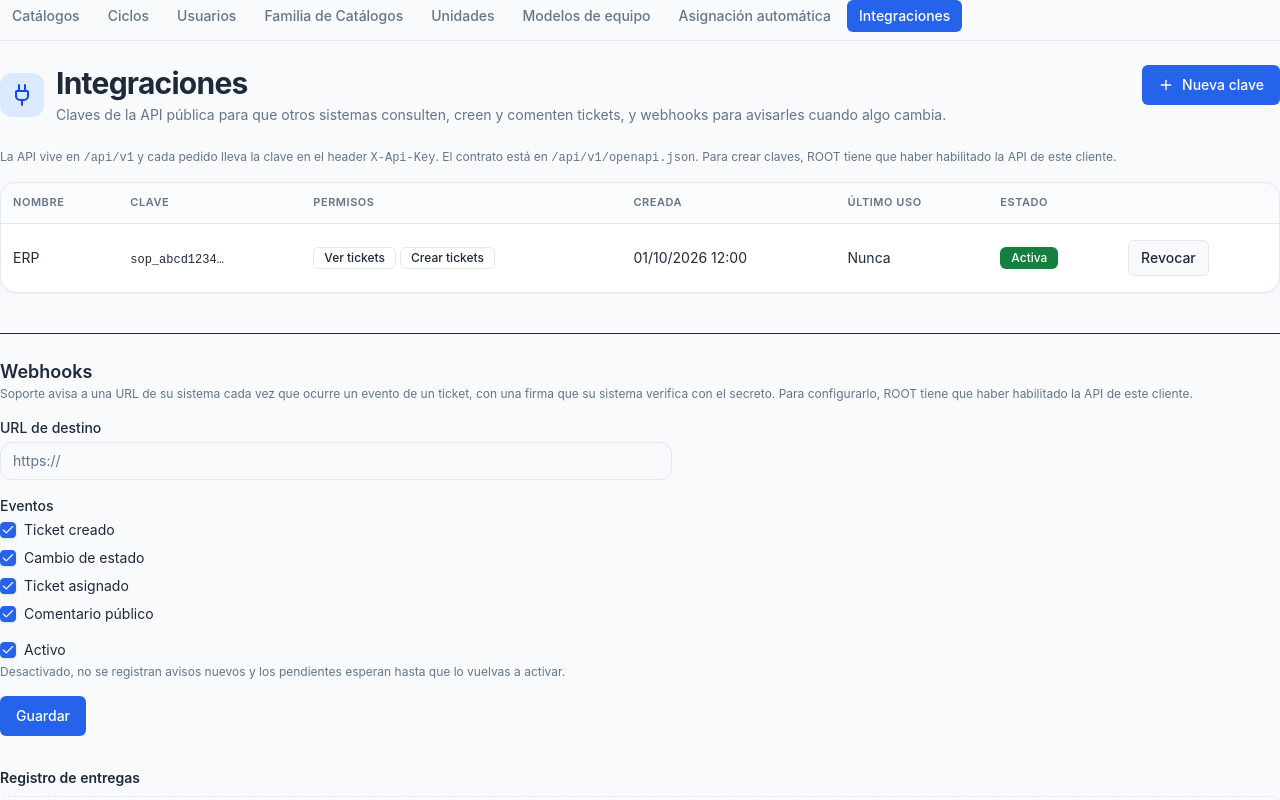
it: IntegracionesAdminView › crear envía nombre y permisos, muestra la clave una vez y la descarta al cerrar
Expected: the text "ERP" is shown, [13,248,39,266]
Click the button "Nueva clave": x=1211, y=85 [1142,65,1279,105]
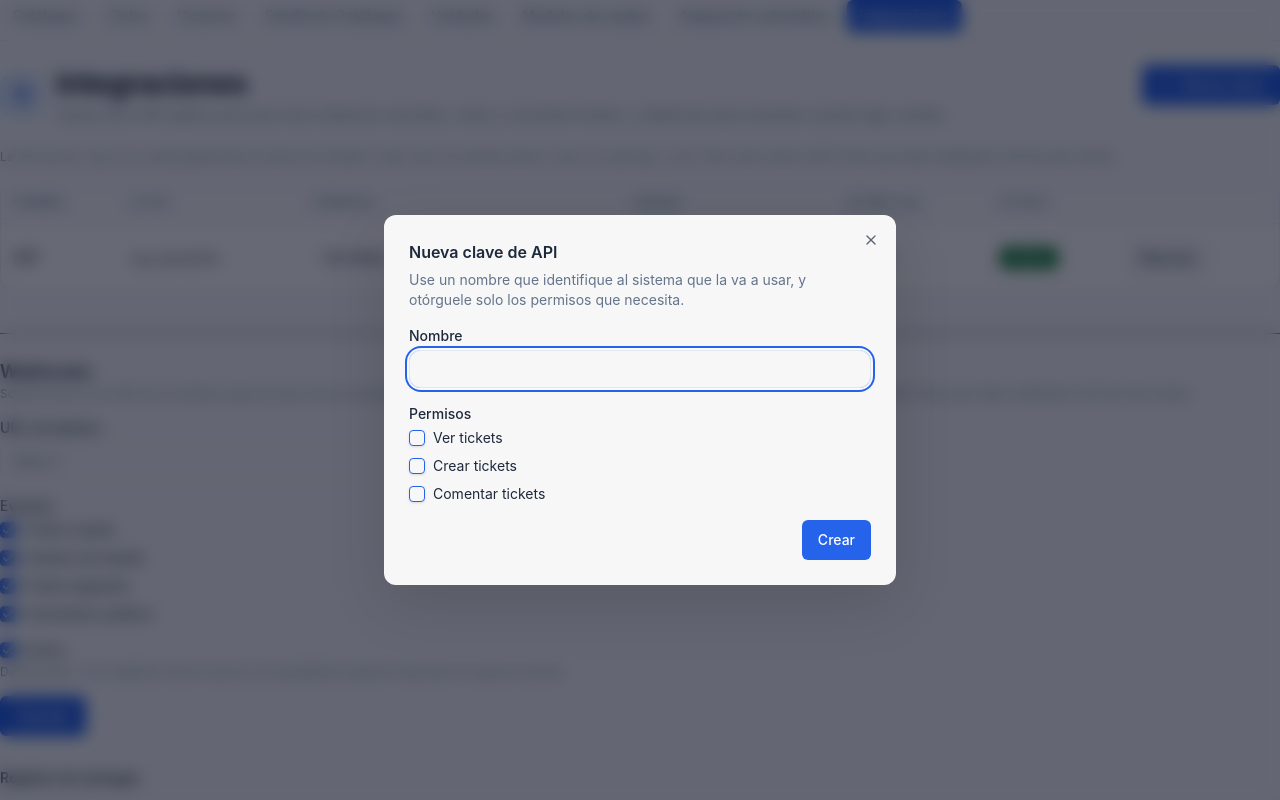
In the field labelled "Nombre": x=640, y=369 [409,350,871,388], type "  Mesa  "
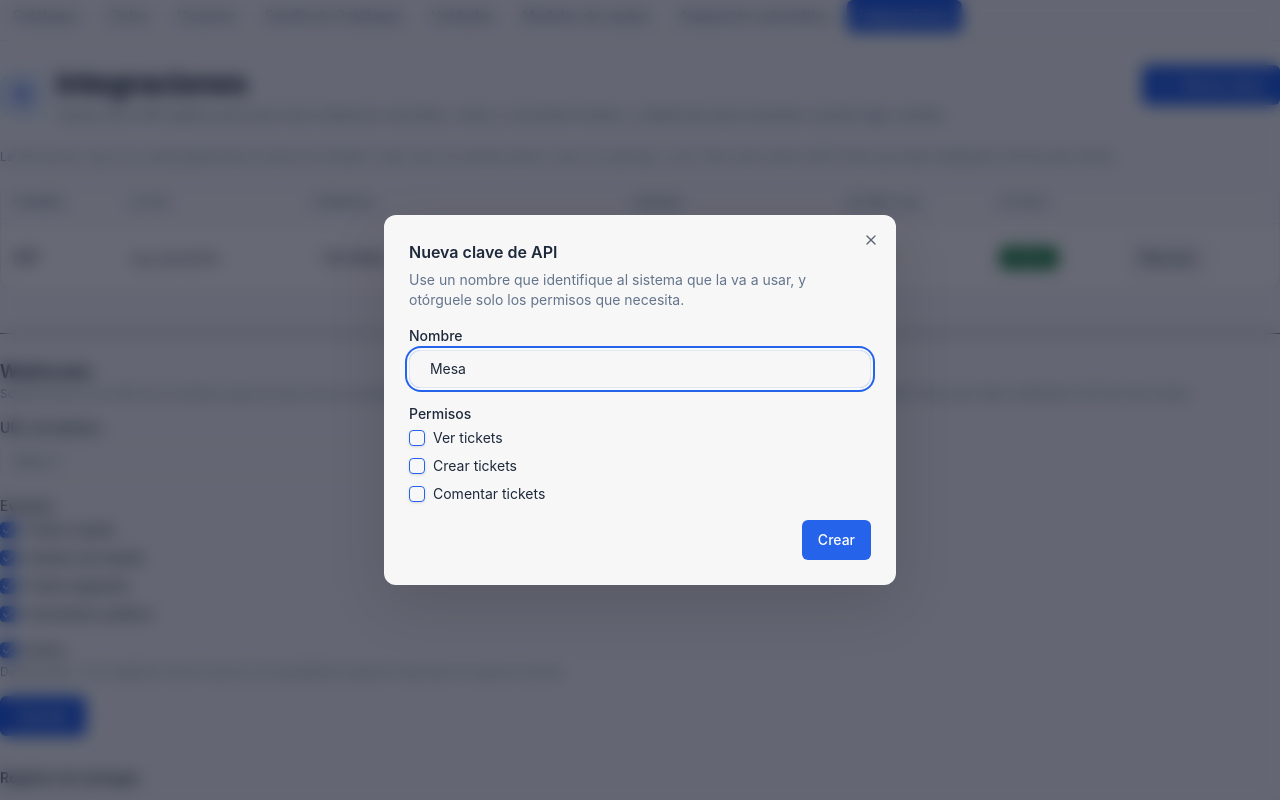
Click the checkbox named "Comentar tickets" next to "Comentar tickets": x=417, y=494 [409,486,425,502]
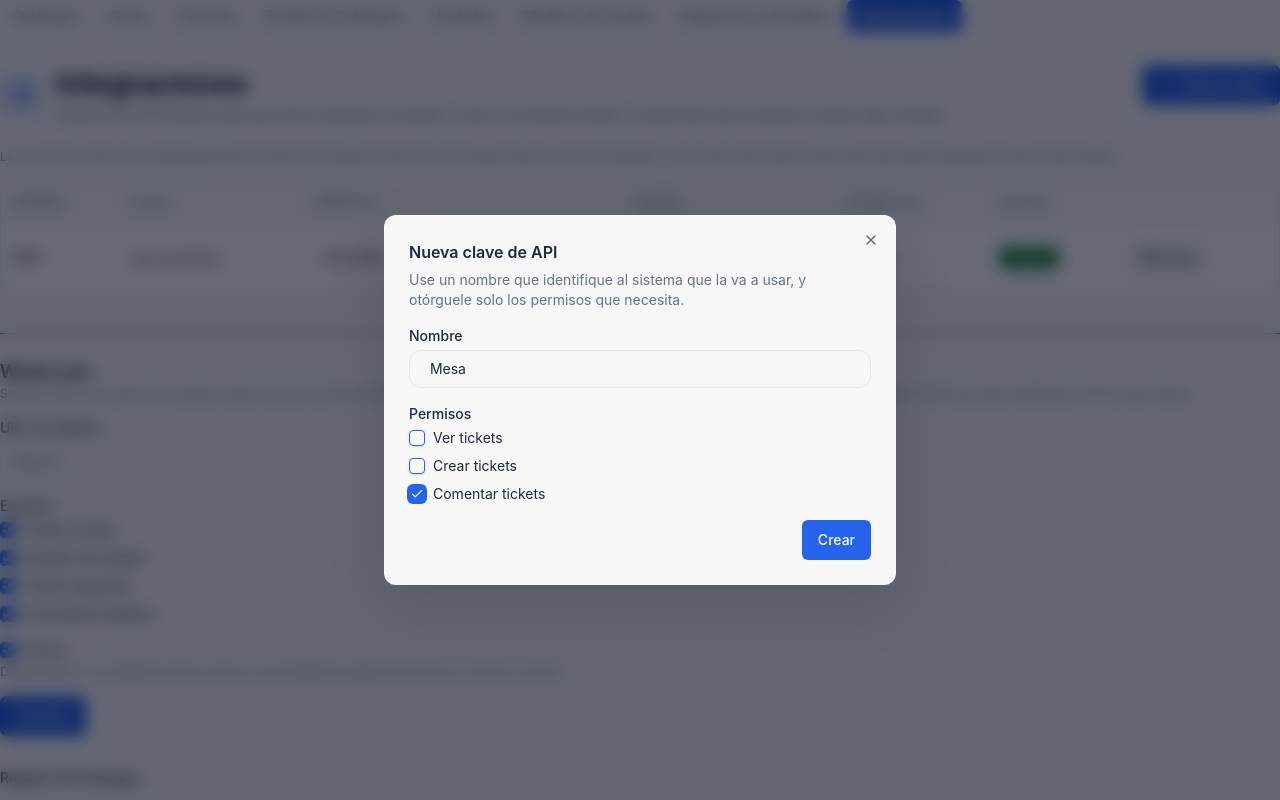
Click the button "Crear": x=836, y=540 [802,520,871,560]
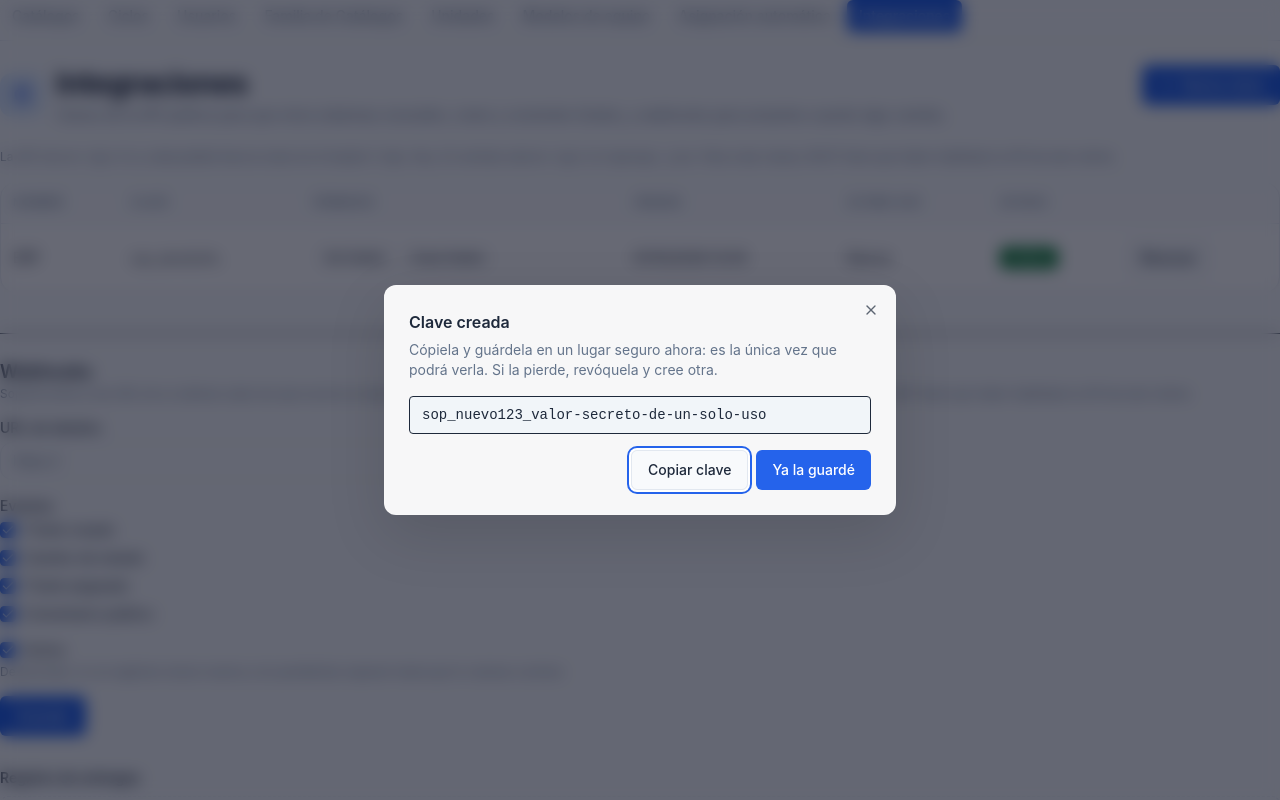
Expected: the text "sop_nuevo123_valor-secreto-de-un-solo-uso" is shown, [409,396,871,434]
Expected: the text "única vez que podrá verla" is shown, [409,341,837,378]
Click the button "Copiar clave": x=690, y=470 [631,450,748,490]
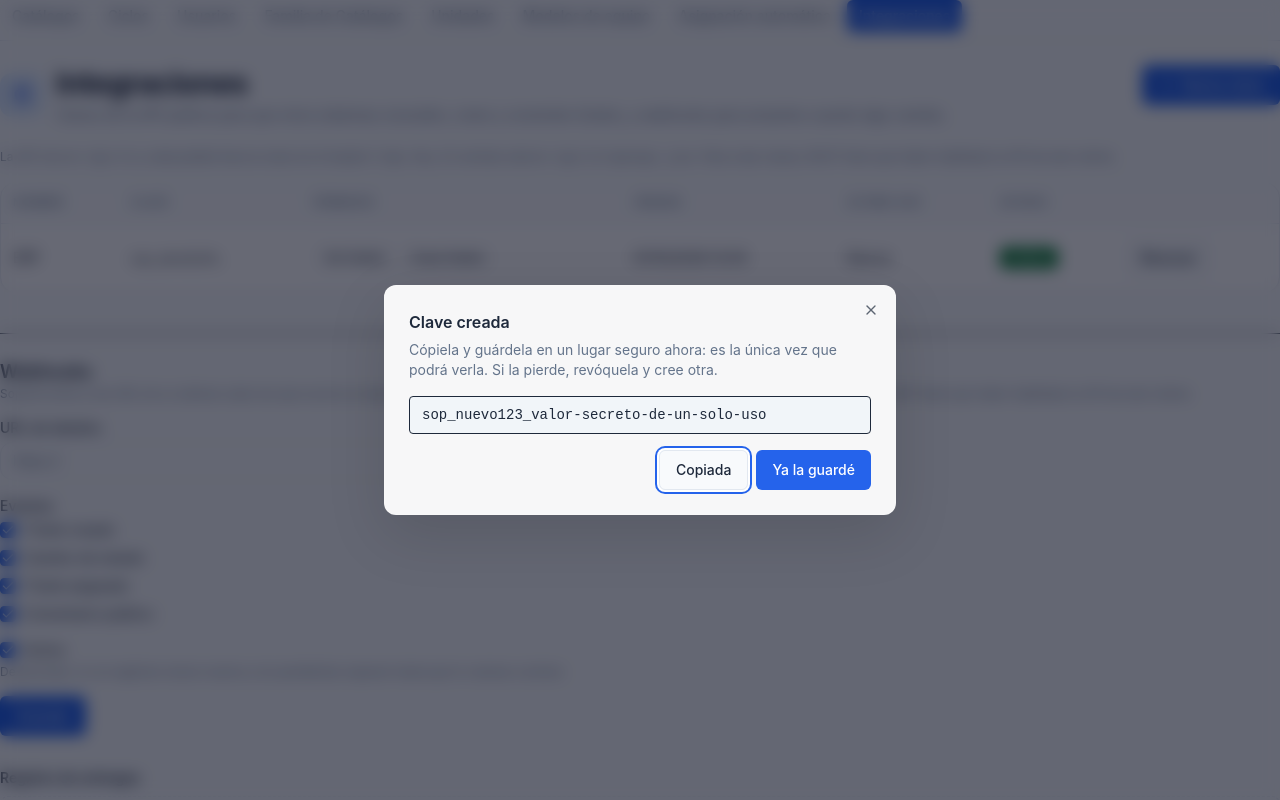
Click the button "Ya la guardé": x=814, y=470 [756,450,871,490]
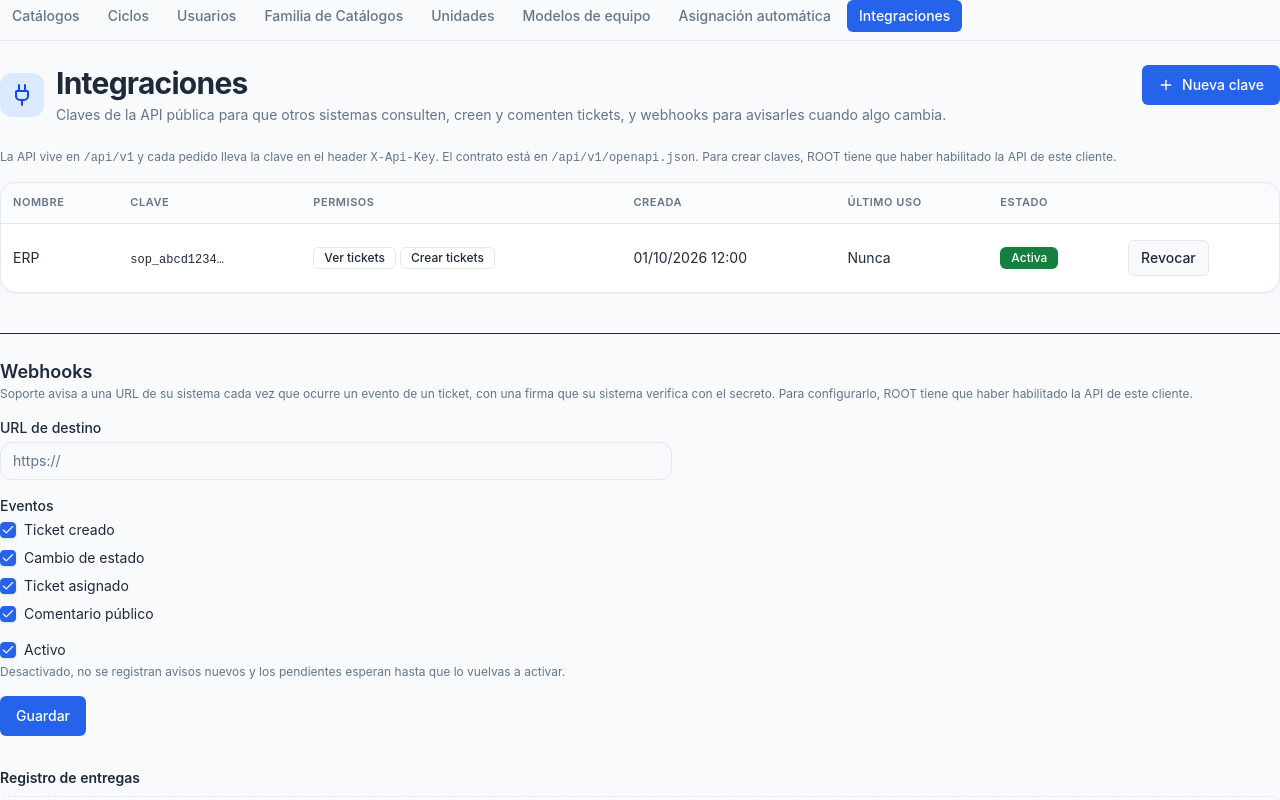
Expected: the text "sop_nuevo123_valor-secreto-de-un-solo-uso" is gone
